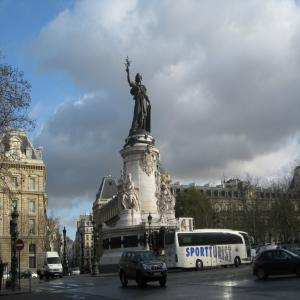Vehicle-registration-plate: (155, 274, 162, 277)
